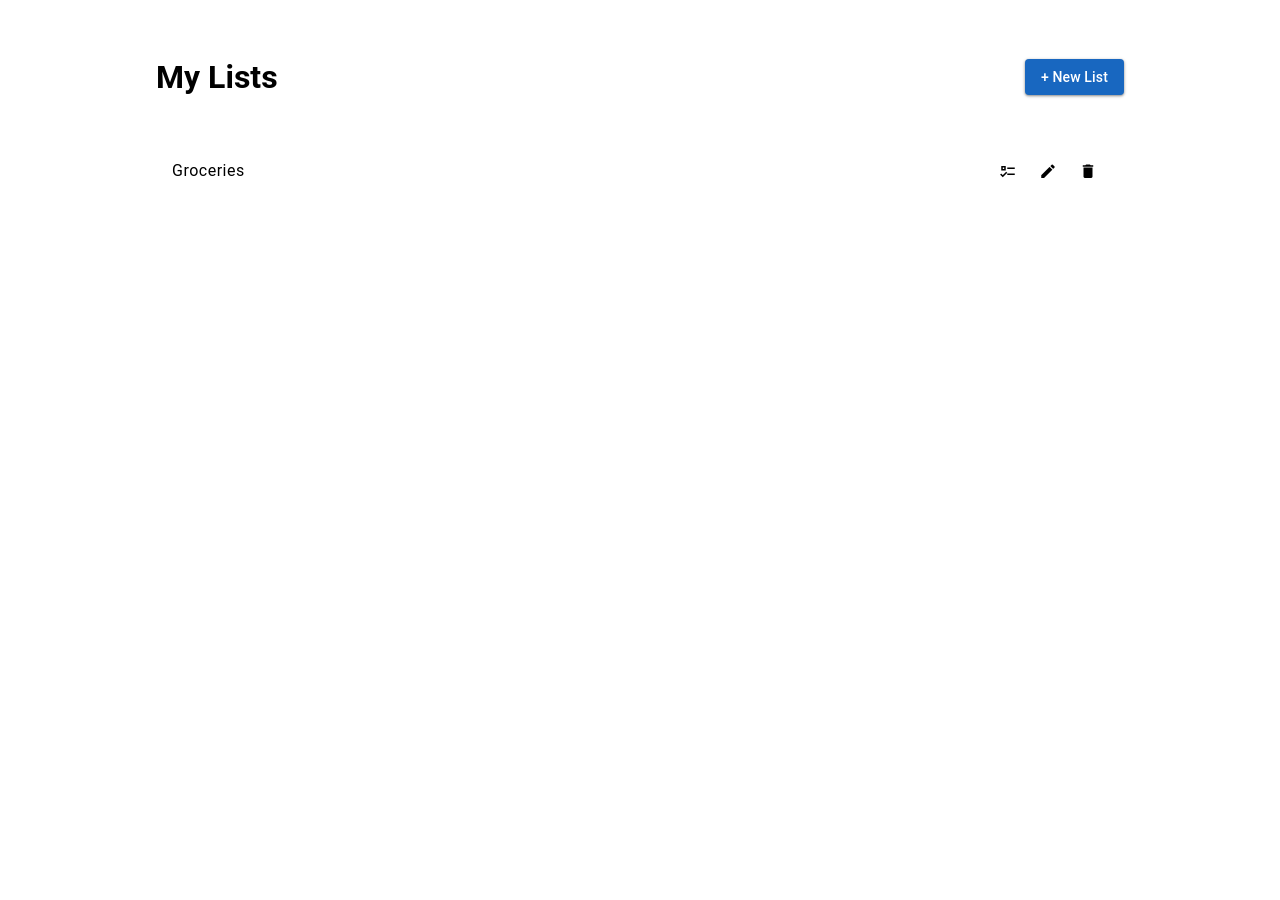
Feature 2 — Todo List Management › US-2.4 — Rename and delete lists › User deletes a list
The width and height of the screenshot is (1280, 900).
Click the button named "Delete list".
click(1088, 171)  # box [1068, 151, 1108, 191]
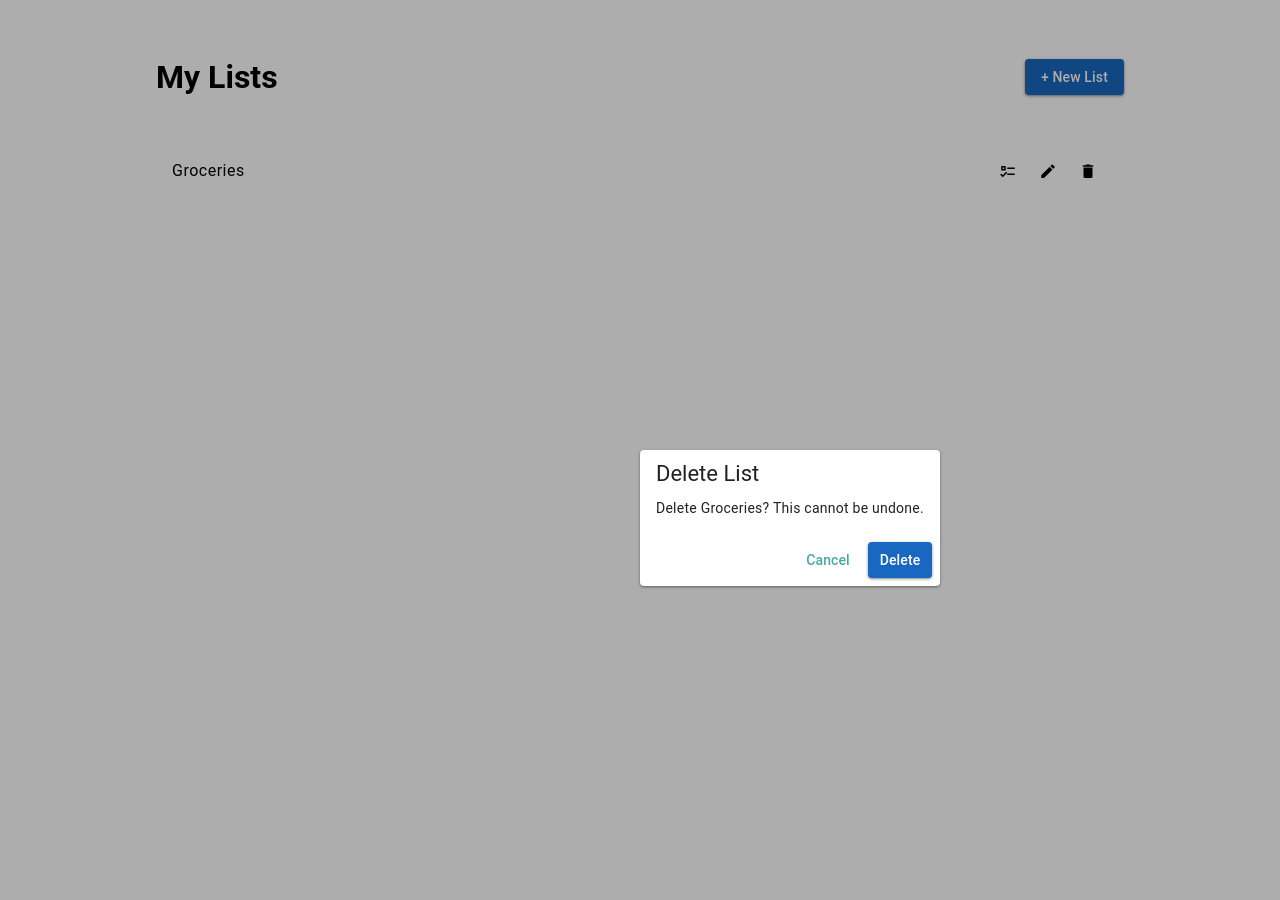
Click the button "Delete".
click(900, 560)  # box [868, 542, 932, 578]
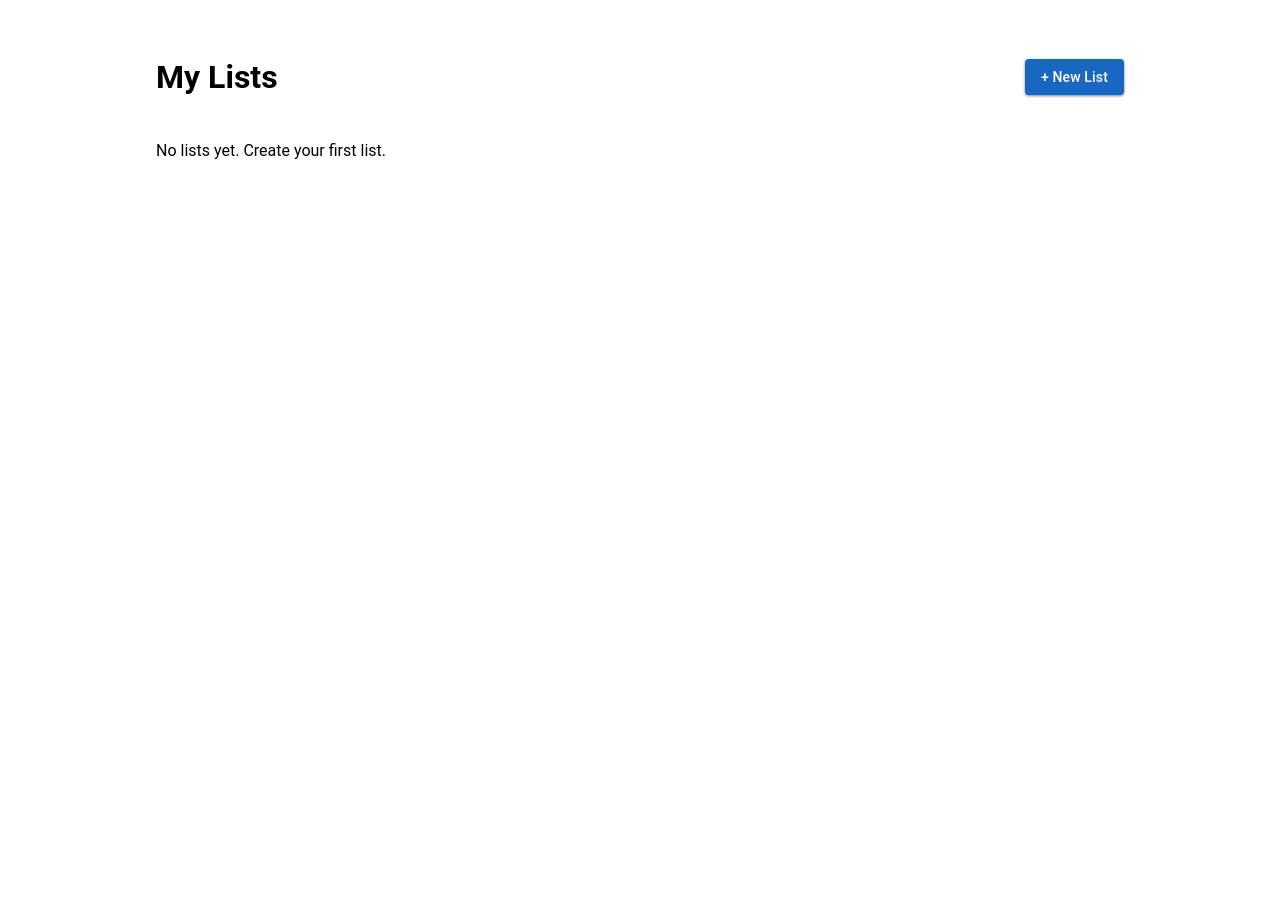
Now the text "No lists yet. Create your first list." is shown, box [156, 141, 386, 160]
